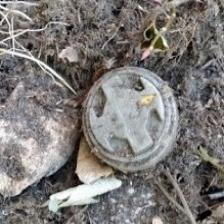M14: (84, 69, 174, 171)
